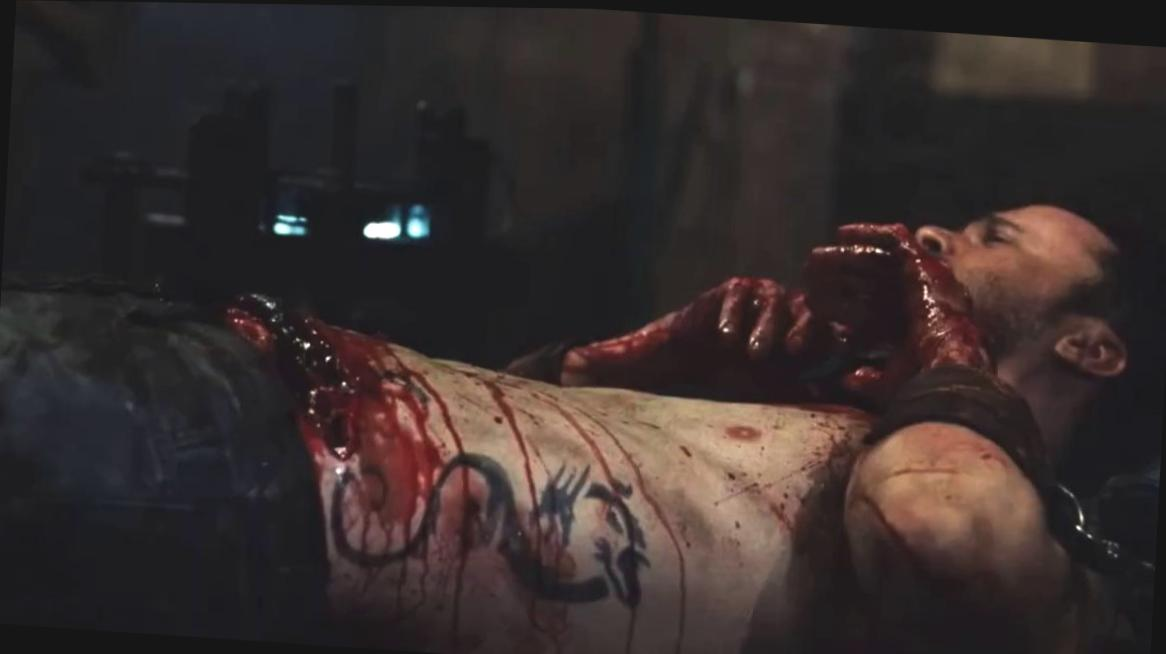Fire: (228, 220, 1052, 654)
